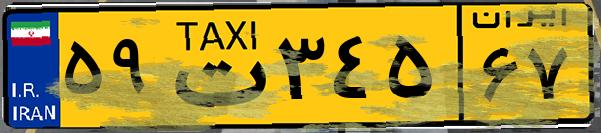3: (270, 28, 330, 110)
4: (330, 28, 385, 110)
5: (385, 28, 445, 110), (57, 26, 110, 100)
6: (475, 38, 525, 113)
7: (525, 38, 570, 115)
9: (110, 28, 158, 98)
ت: (158, 12, 270, 120)
